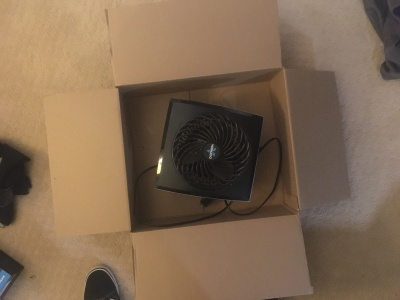innerbox: (124, 76, 292, 222)
outerbox: (51, 8, 346, 293)
product: (160, 102, 255, 200)
